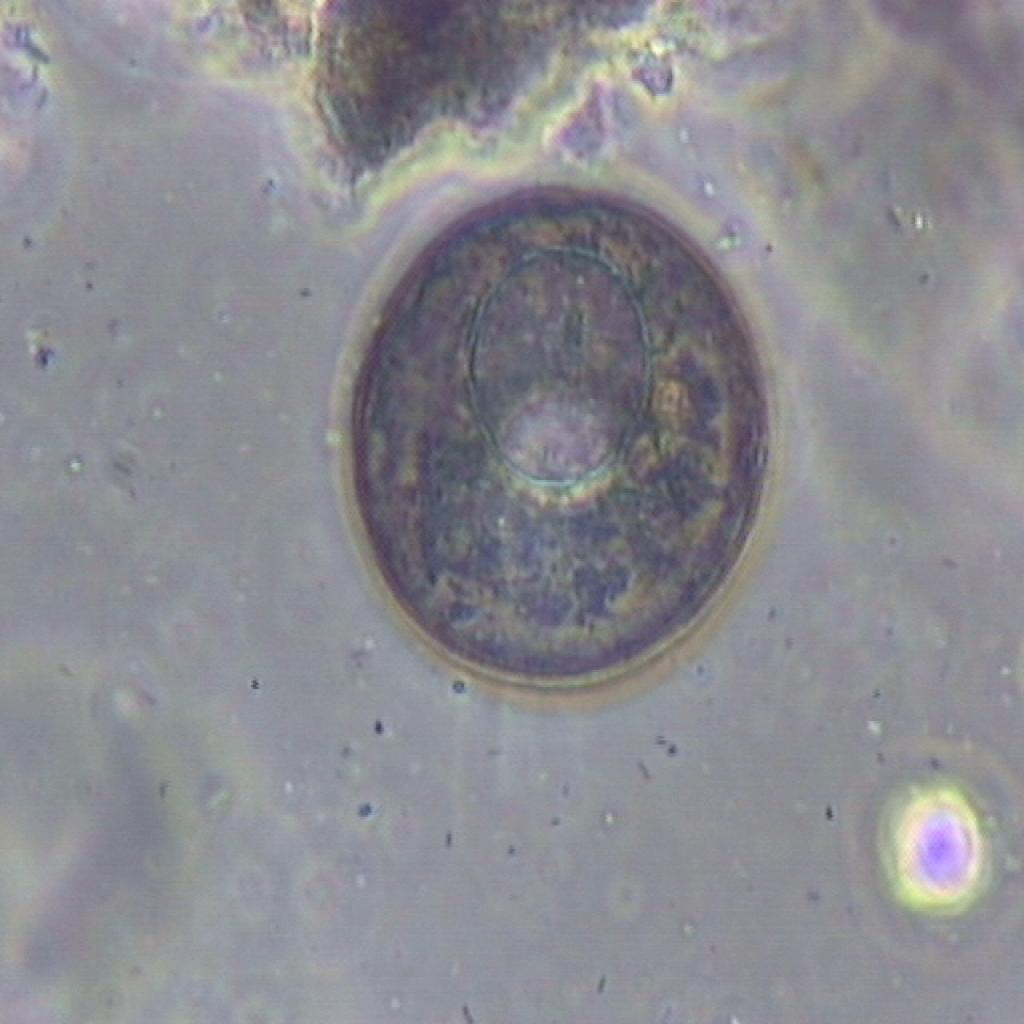Arcella: (300, 160, 798, 710)
